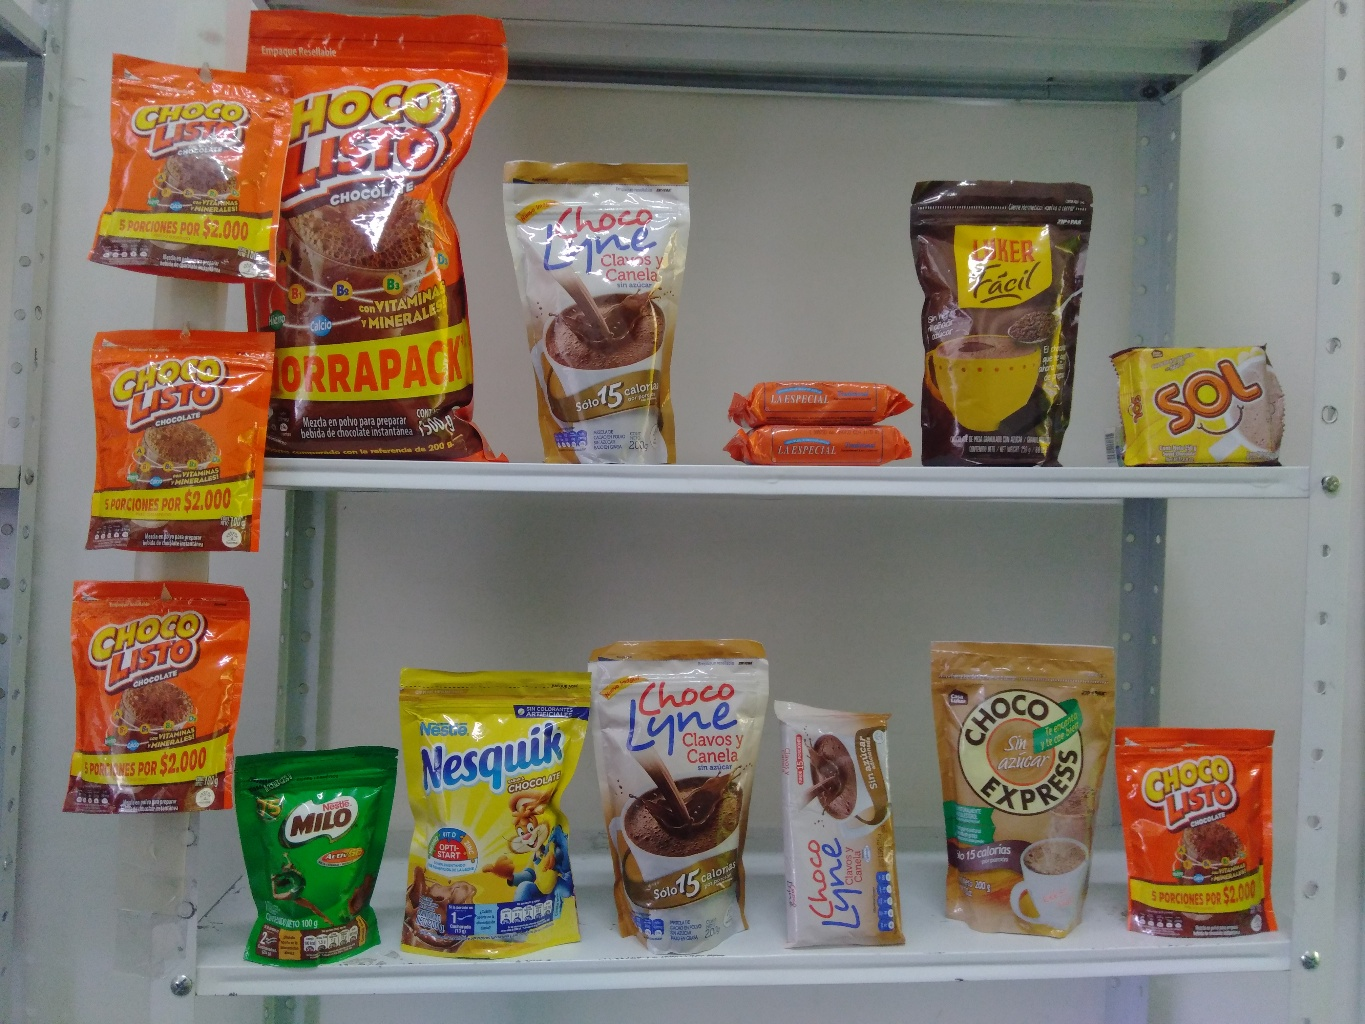COL0170303DYP20000: (401, 668, 622, 970)
